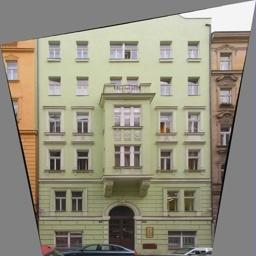building: (38, 6, 212, 256)
